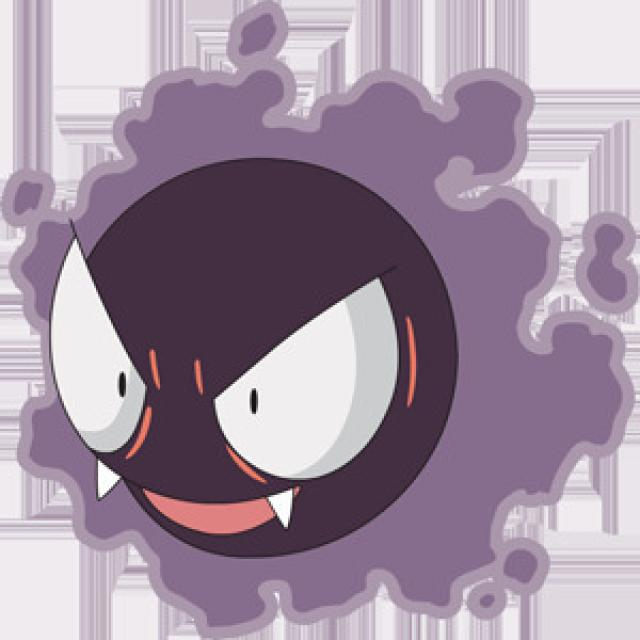Gastly: (0, 67, 557, 614)
